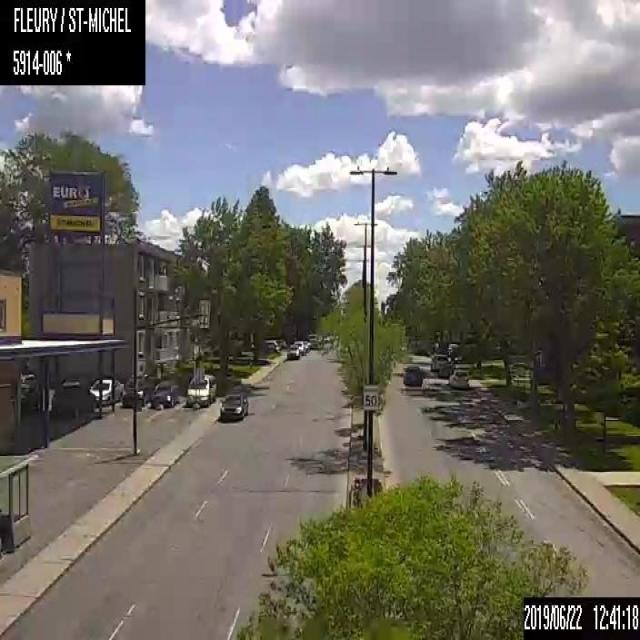vehicle: (49, 378, 95, 418), (186, 372, 216, 409), (118, 374, 147, 408), (217, 392, 248, 423), (148, 376, 178, 408), (89, 377, 123, 404), (402, 361, 423, 387), (449, 368, 467, 388), (430, 353, 449, 371), (290, 339, 304, 354), (285, 347, 299, 361)
